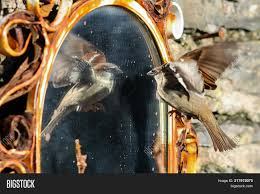hsparrow: (141, 39, 246, 150)
